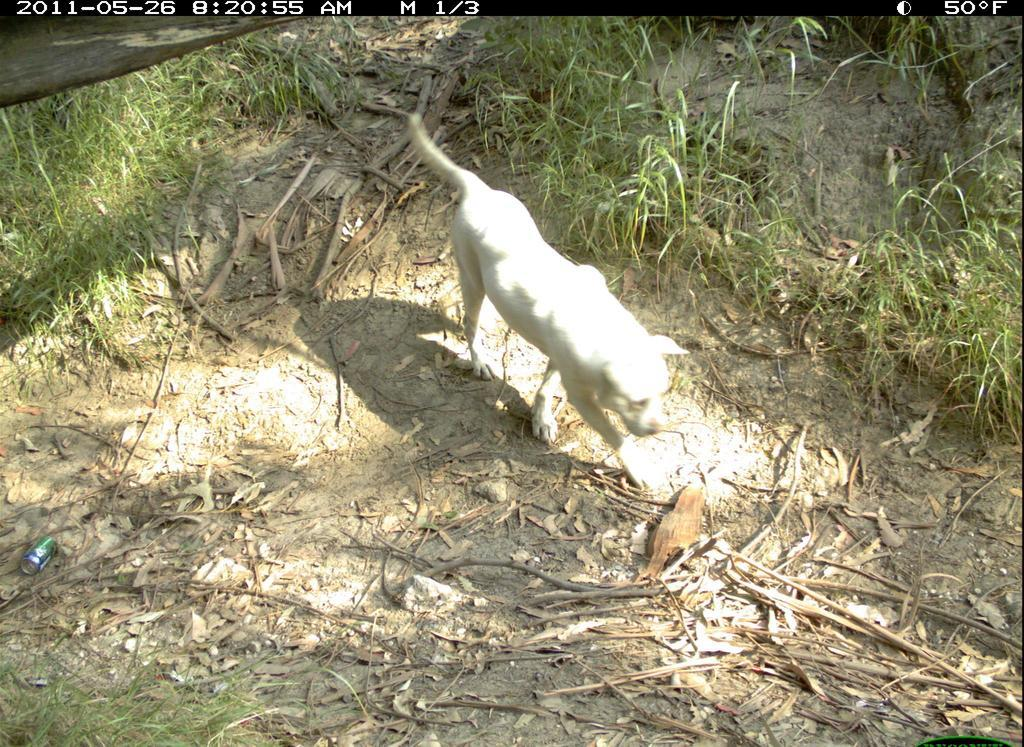dog: (404, 108, 696, 496)
